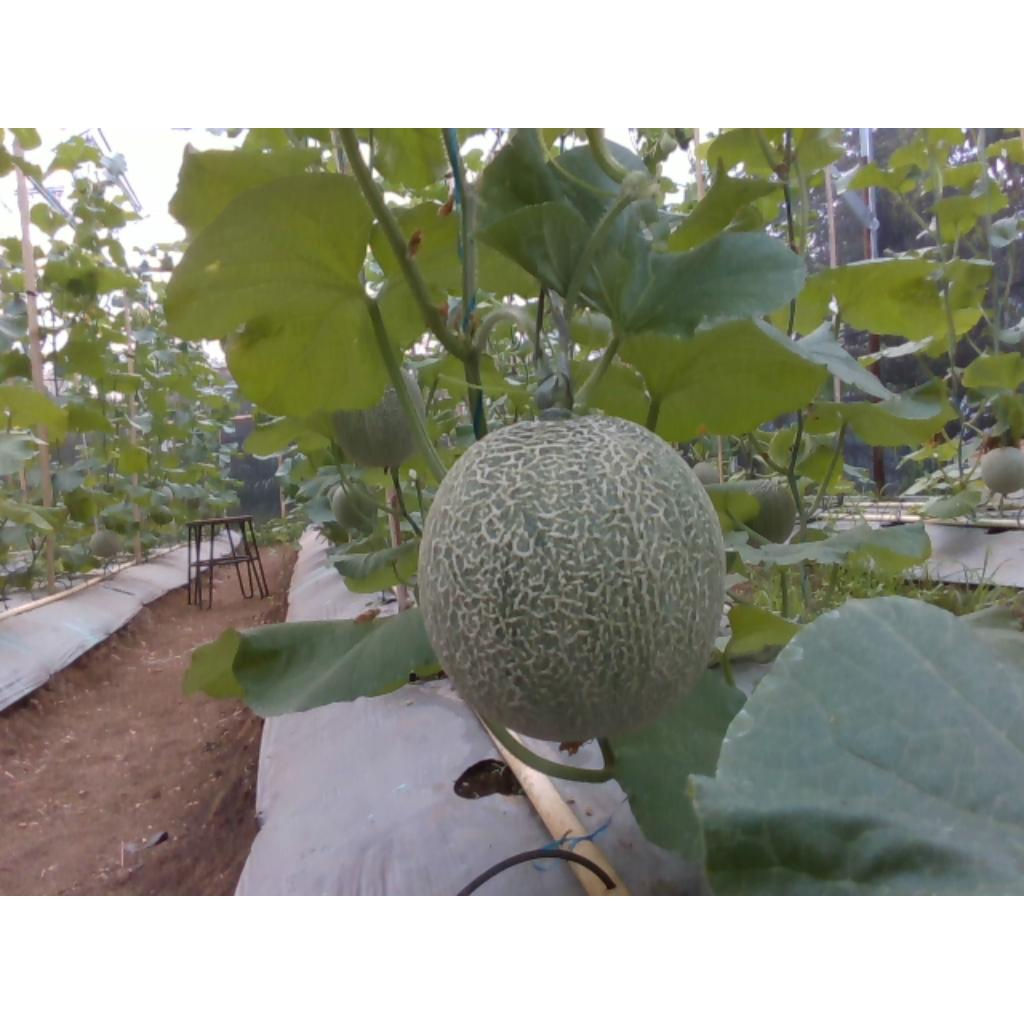melon: (419, 416, 726, 742)
